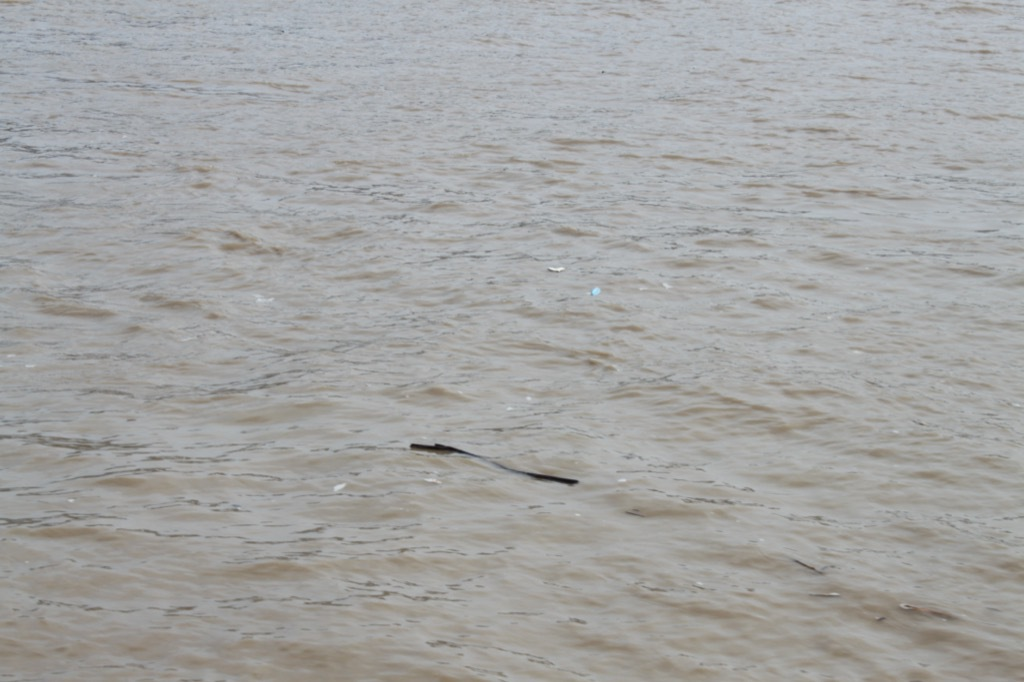organic: (403, 431, 595, 500), (869, 597, 969, 634), (784, 549, 835, 578), (800, 584, 850, 607)
plastic: (418, 468, 448, 491), (581, 280, 609, 304), (326, 475, 354, 499), (540, 261, 573, 280), (60, 493, 81, 509)
